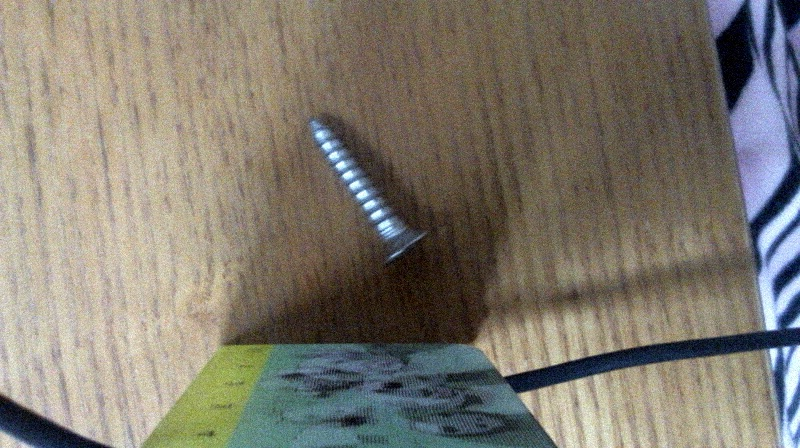S001: (302, 112, 434, 271)
